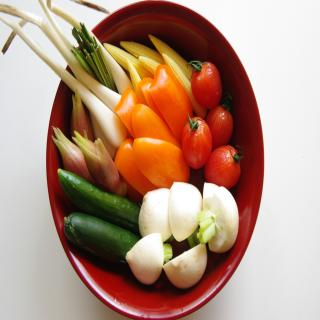tomato: (185, 59, 223, 108), (204, 143, 243, 190), (181, 112, 213, 168), (206, 96, 232, 150)
